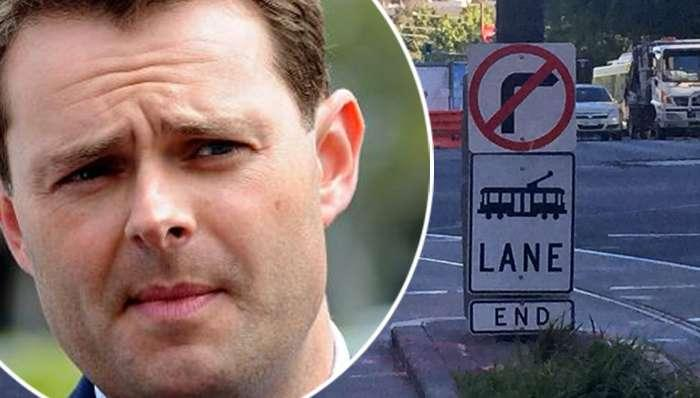no_right_turn: (469, 44, 573, 149)
